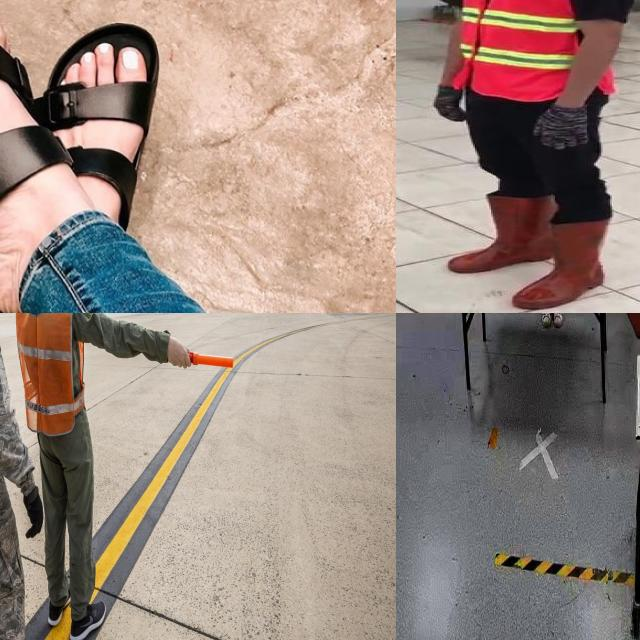Sandals: (0, 0, 88, 313)
boots: (516, 218, 614, 312), (450, 196, 554, 274)
person: (423, 0, 640, 313)
shoes: (539, 313, 553, 330), (553, 313, 565, 329)
vest: (448, 0, 637, 100)
